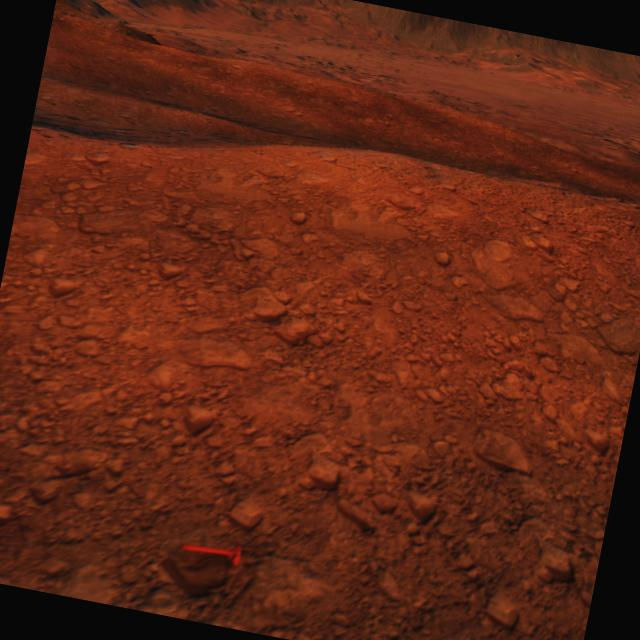newhammer: (180, 530, 243, 567)
